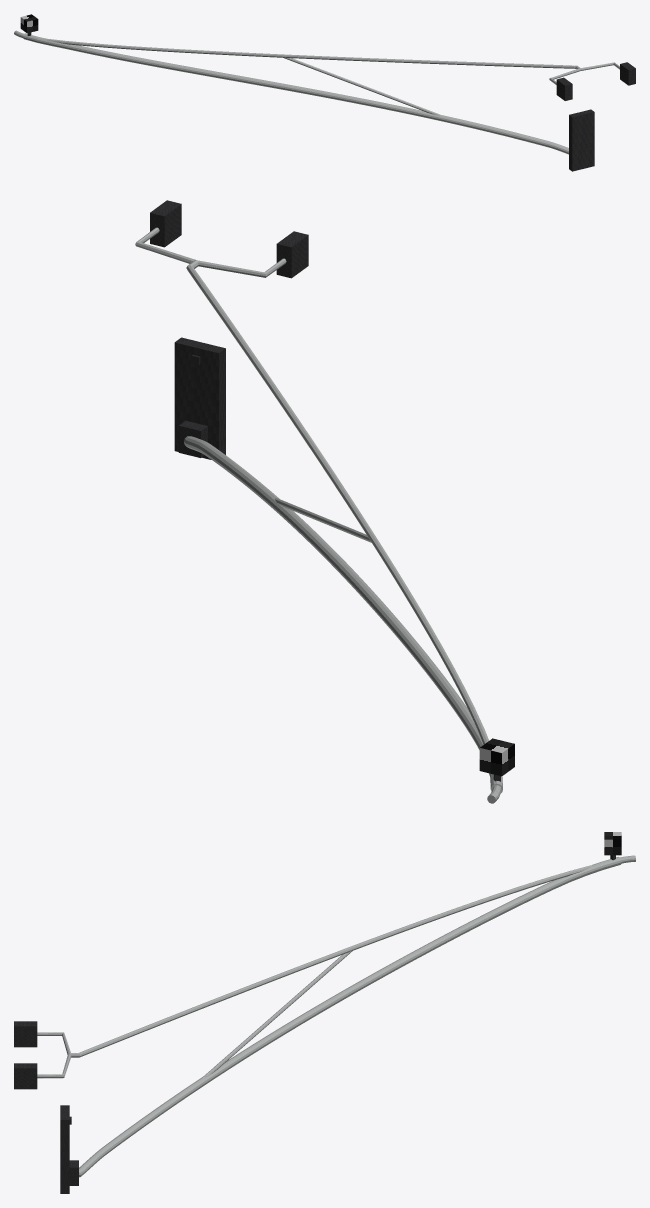
The model's file is arm_8_left.obj.
3 renders of one model, top to bottom at view 1: azimuth 30°, elevation 25°; view 2: azimuth 150°, elevation 25°; view 3: azimuth 270°, elevation 25°, orthographic. The views are drawn at different scales.
Visible parts, largest first — view 1: pole_light_mount_8_left; view 2: pole_light_mount_8_left; view 3: pole_light_mount_8_left.
Boxes of the visible parts, <box> form: pole_light_mount_8_left: <box>14,14,635,171</box>; pole_light_mount_8_left: <box>135,200,514,803</box>; pole_light_mount_8_left: <box>14,832,635,1193</box>.
Size of the model in its own units: 6.63 by 1.68 by 6.69.
